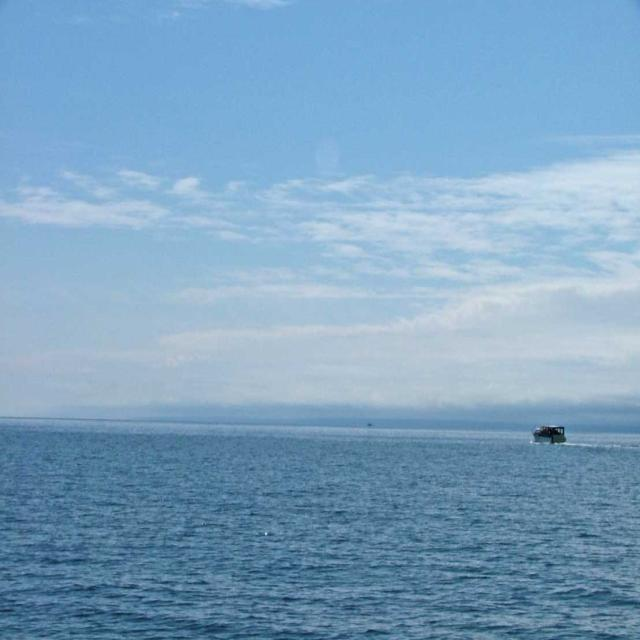houseboat: (525, 414, 570, 446)
